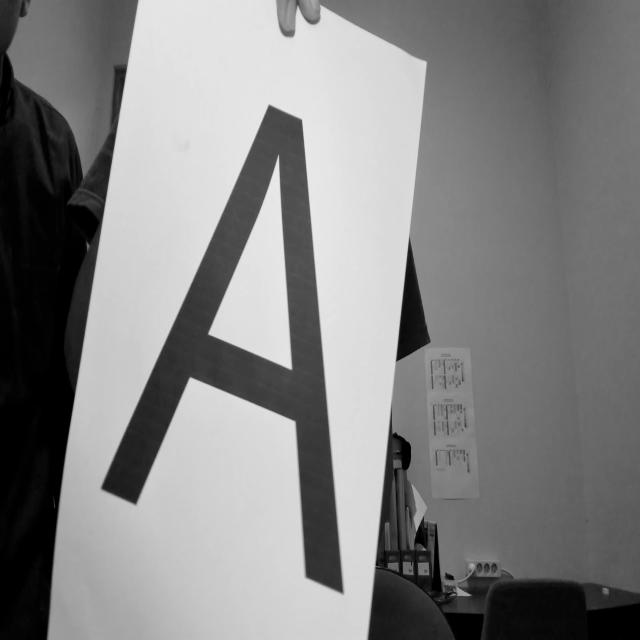a: (88, 65, 356, 611)
